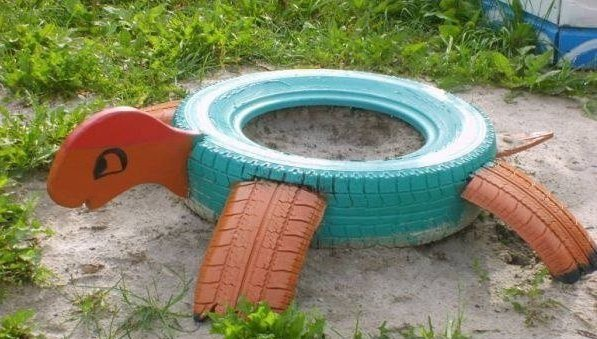tire: (172, 70, 497, 246)
